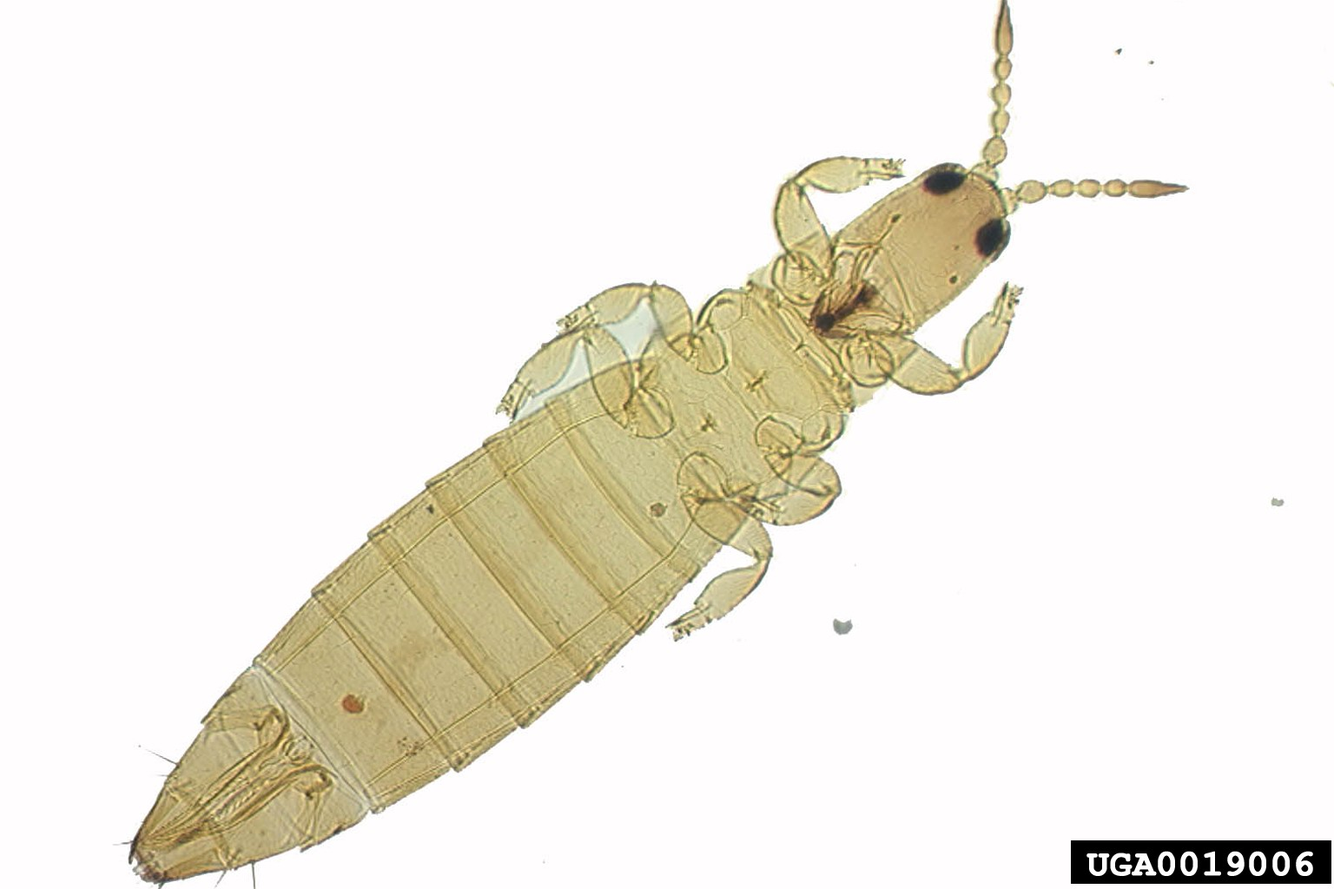Thripidae: (129, 1, 1187, 888)
